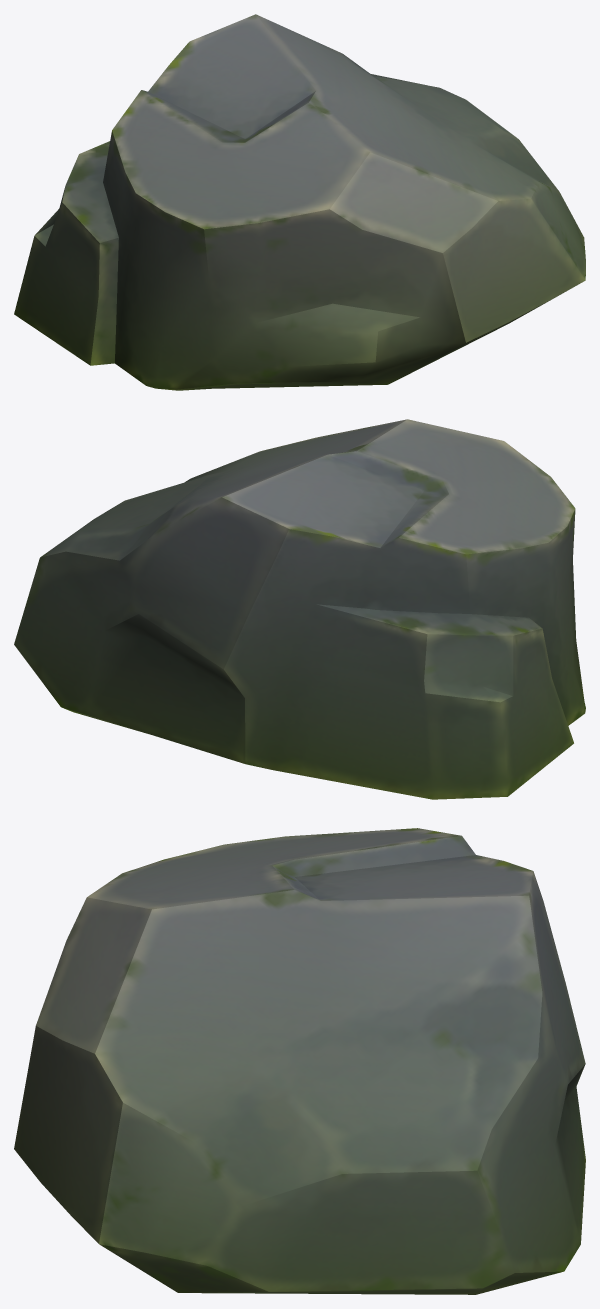
File: rock_7_lev1.glb
3 renders of one model, top to bottom at view 1: azimuth 30°, elevation 25°; view 2: azimuth 150°, elevation 25°; view 3: azimuth 270°, elevation 25°, orthographic. The views are drawn at different scales.
Visible parts, largest first — view 1: rock_7_lev1; view 2: rock_7_lev1; view 3: rock_7_lev1.
Boxes of the visible parts, x1=… form: rock_7_lev1: x1=14, y1=14, x2=585, y2=390; rock_7_lev1: x1=14, y1=419, x2=585, y2=799; rock_7_lev1: x1=14, y1=828, x2=585, y2=1294.
Size of the model in its own units: 0.9512 by 0.4621 by 0.7735.
1 material, 1 textured.
